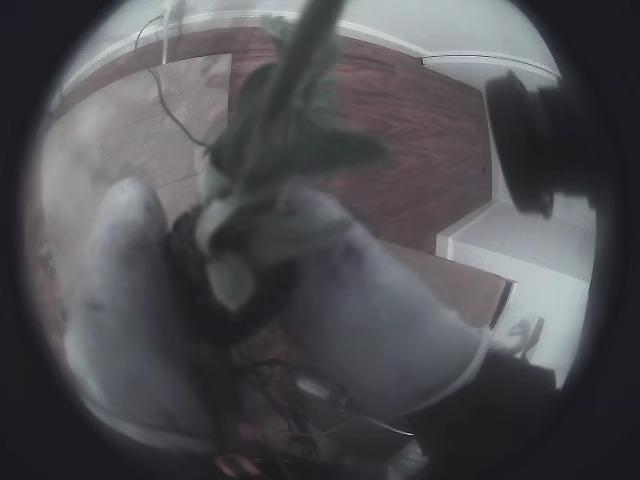berry: (168, 0, 346, 345)
gripper: (281, 219, 488, 420), (64, 177, 212, 449), (281, 185, 350, 223)
lense: (0, 0, 154, 479), (512, 0, 639, 478)
